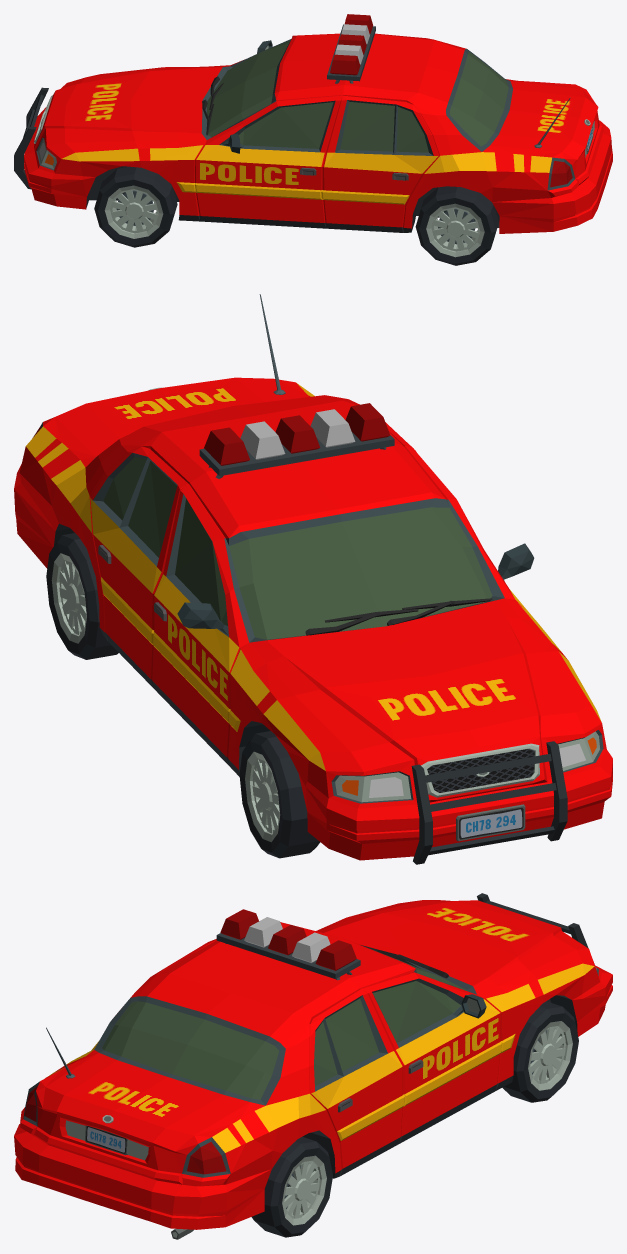
The model's file is Car 4.fbx.
3 renders of one model, top to bottom at view 1: azimuth 30°, elevation 25°; view 2: azimuth 150°, elevation 25°; view 3: azimuth 270°, elevation 25°, orthographic. The views are drawn at different scales.
Parts seen in each view (by area): view 1: SM_Veh_Car_Police_01, SM_Veh_Car_Police_Glass, SM_Veh_Car_Police_Wheel_fl, SM_Veh_Car_Police_Wheel_rl; view 2: SM_Veh_Car_Police_01, SM_Veh_Car_Police_Glass, SM_Veh_Car_Police_Wheel_fr, SM_Veh_Car_Police_Wheel_rr, SM_Veh_Car_Police_Plates; view 3: SM_Veh_Car_Police_01, SM_Veh_Car_Police_Glass, SM_Veh_Car_Police_Wheel_rr, SM_Veh_Car_Police_Wheel_fr, SM_Veh_Car_Police_Plates.
Part boxes in pixels (x1,y1,x2,y2): SM_Veh_Car_Police_01: (14,14,612,233); SM_Veh_Car_Police_Glass: (206,40,508,152); SM_Veh_Car_Police_Wheel_fl: (94,166,177,247); SM_Veh_Car_Police_Wheel_rl: (415,186,498,265); SM_Veh_Car_Police_01: (14,294,612,864); SM_Veh_Car_Police_Glass: (103,456,492,639); SM_Veh_Car_Police_Wheel_fr: (239,731,320,858); SM_Veh_Car_Police_Wheel_rr: (46,533,118,659); SM_Veh_Car_Police_Plates: (456,804,525,841); SM_Veh_Car_Police_01: (14,893,612,1239); SM_Veh_Car_Police_Glass: (102,950,466,1099); SM_Veh_Car_Police_Wheel_rr: (251,1136,332,1237); SM_Veh_Car_Police_Wheel_fr: (502,1001,578,1102); SM_Veh_Car_Police_Plates: (85,1125,128,1155).
Size of the model in its own units: 1712 by 648 by 1503.
